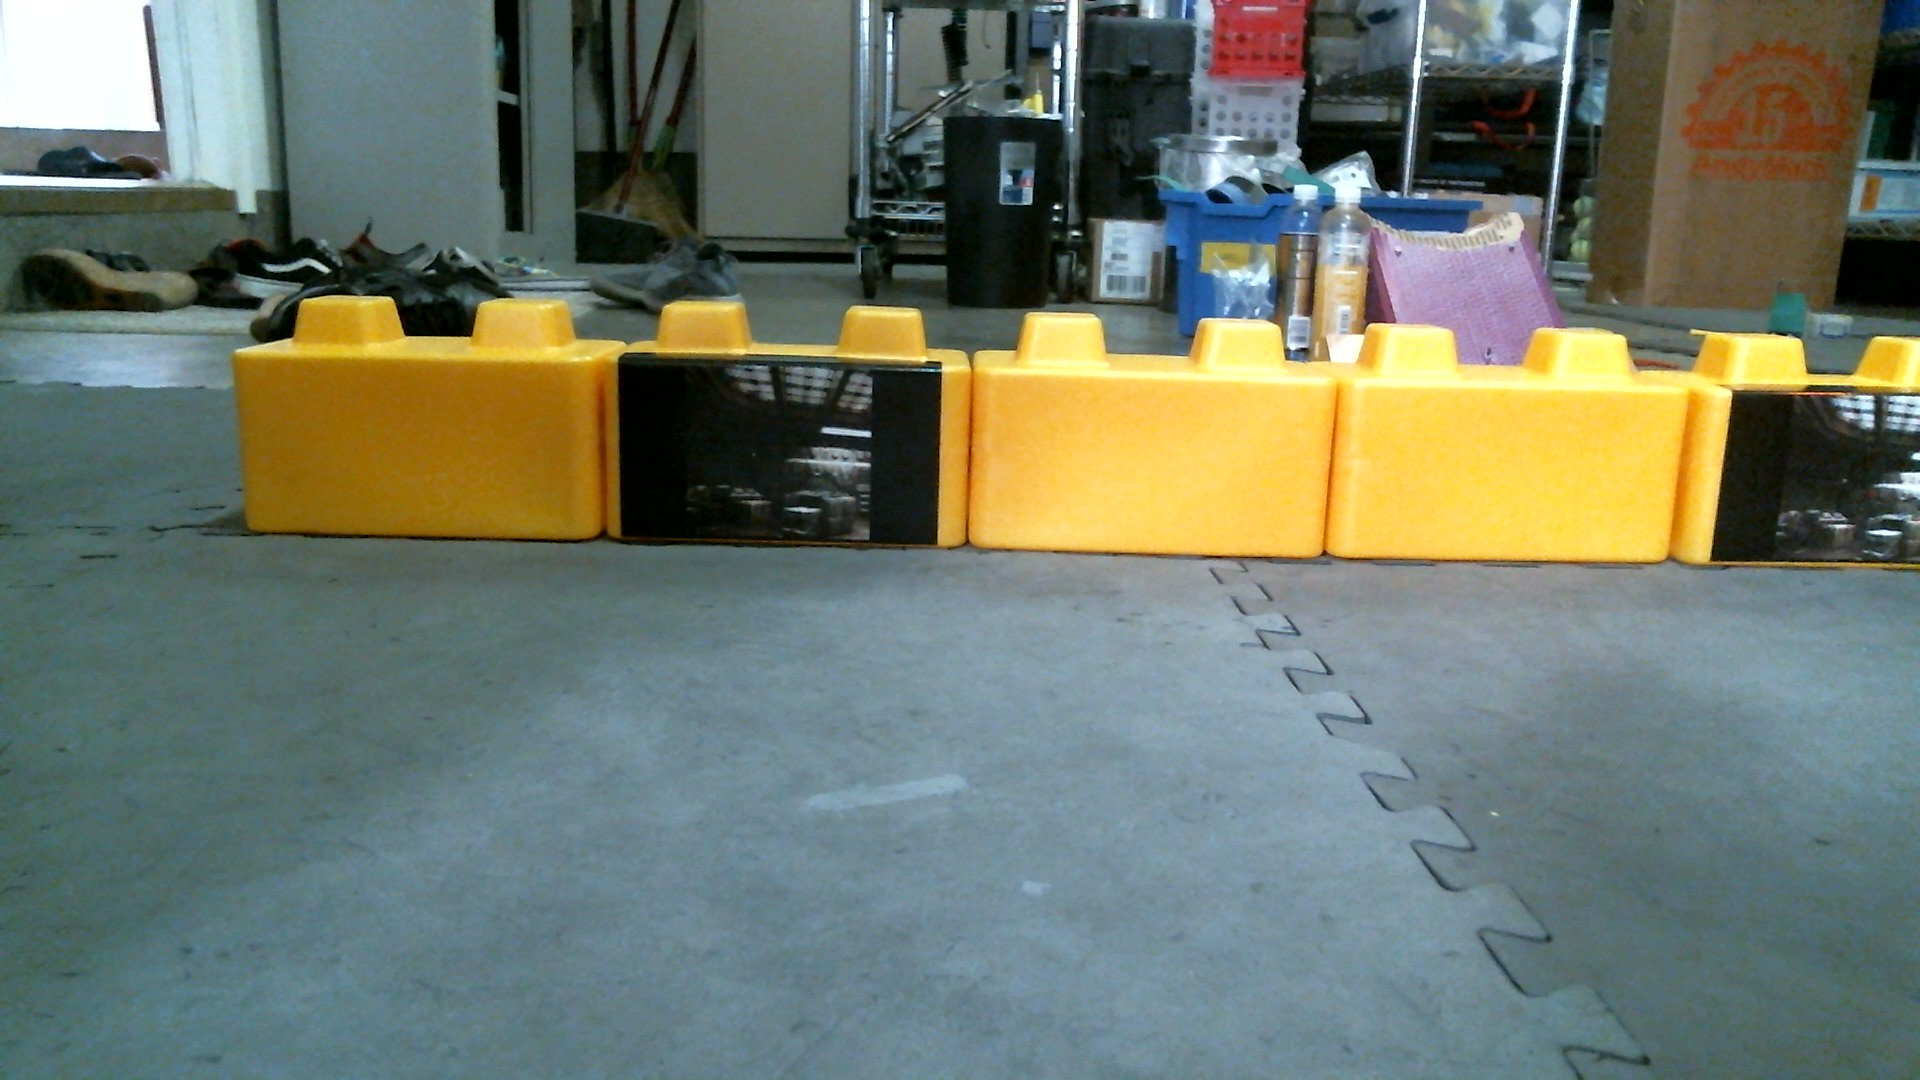skystone: (597, 295, 986, 564), (1675, 328, 1920, 578)
stone: (229, 290, 612, 547), (963, 309, 1345, 564), (1317, 315, 1697, 568)
